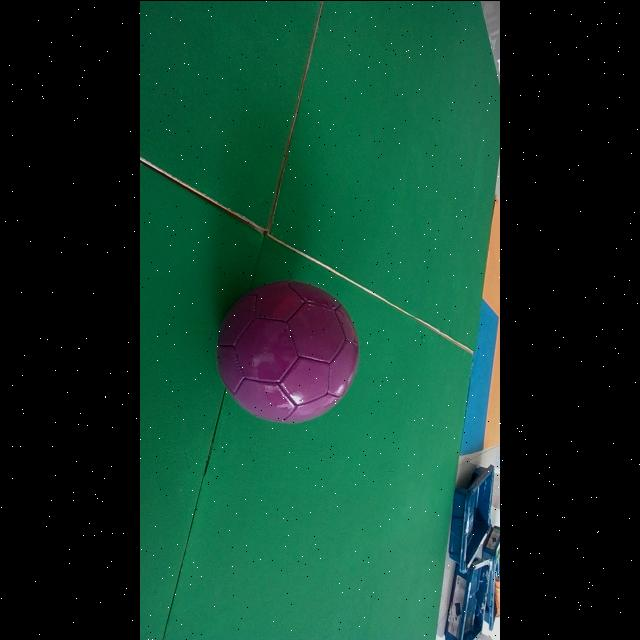P: (218, 280, 359, 422)
